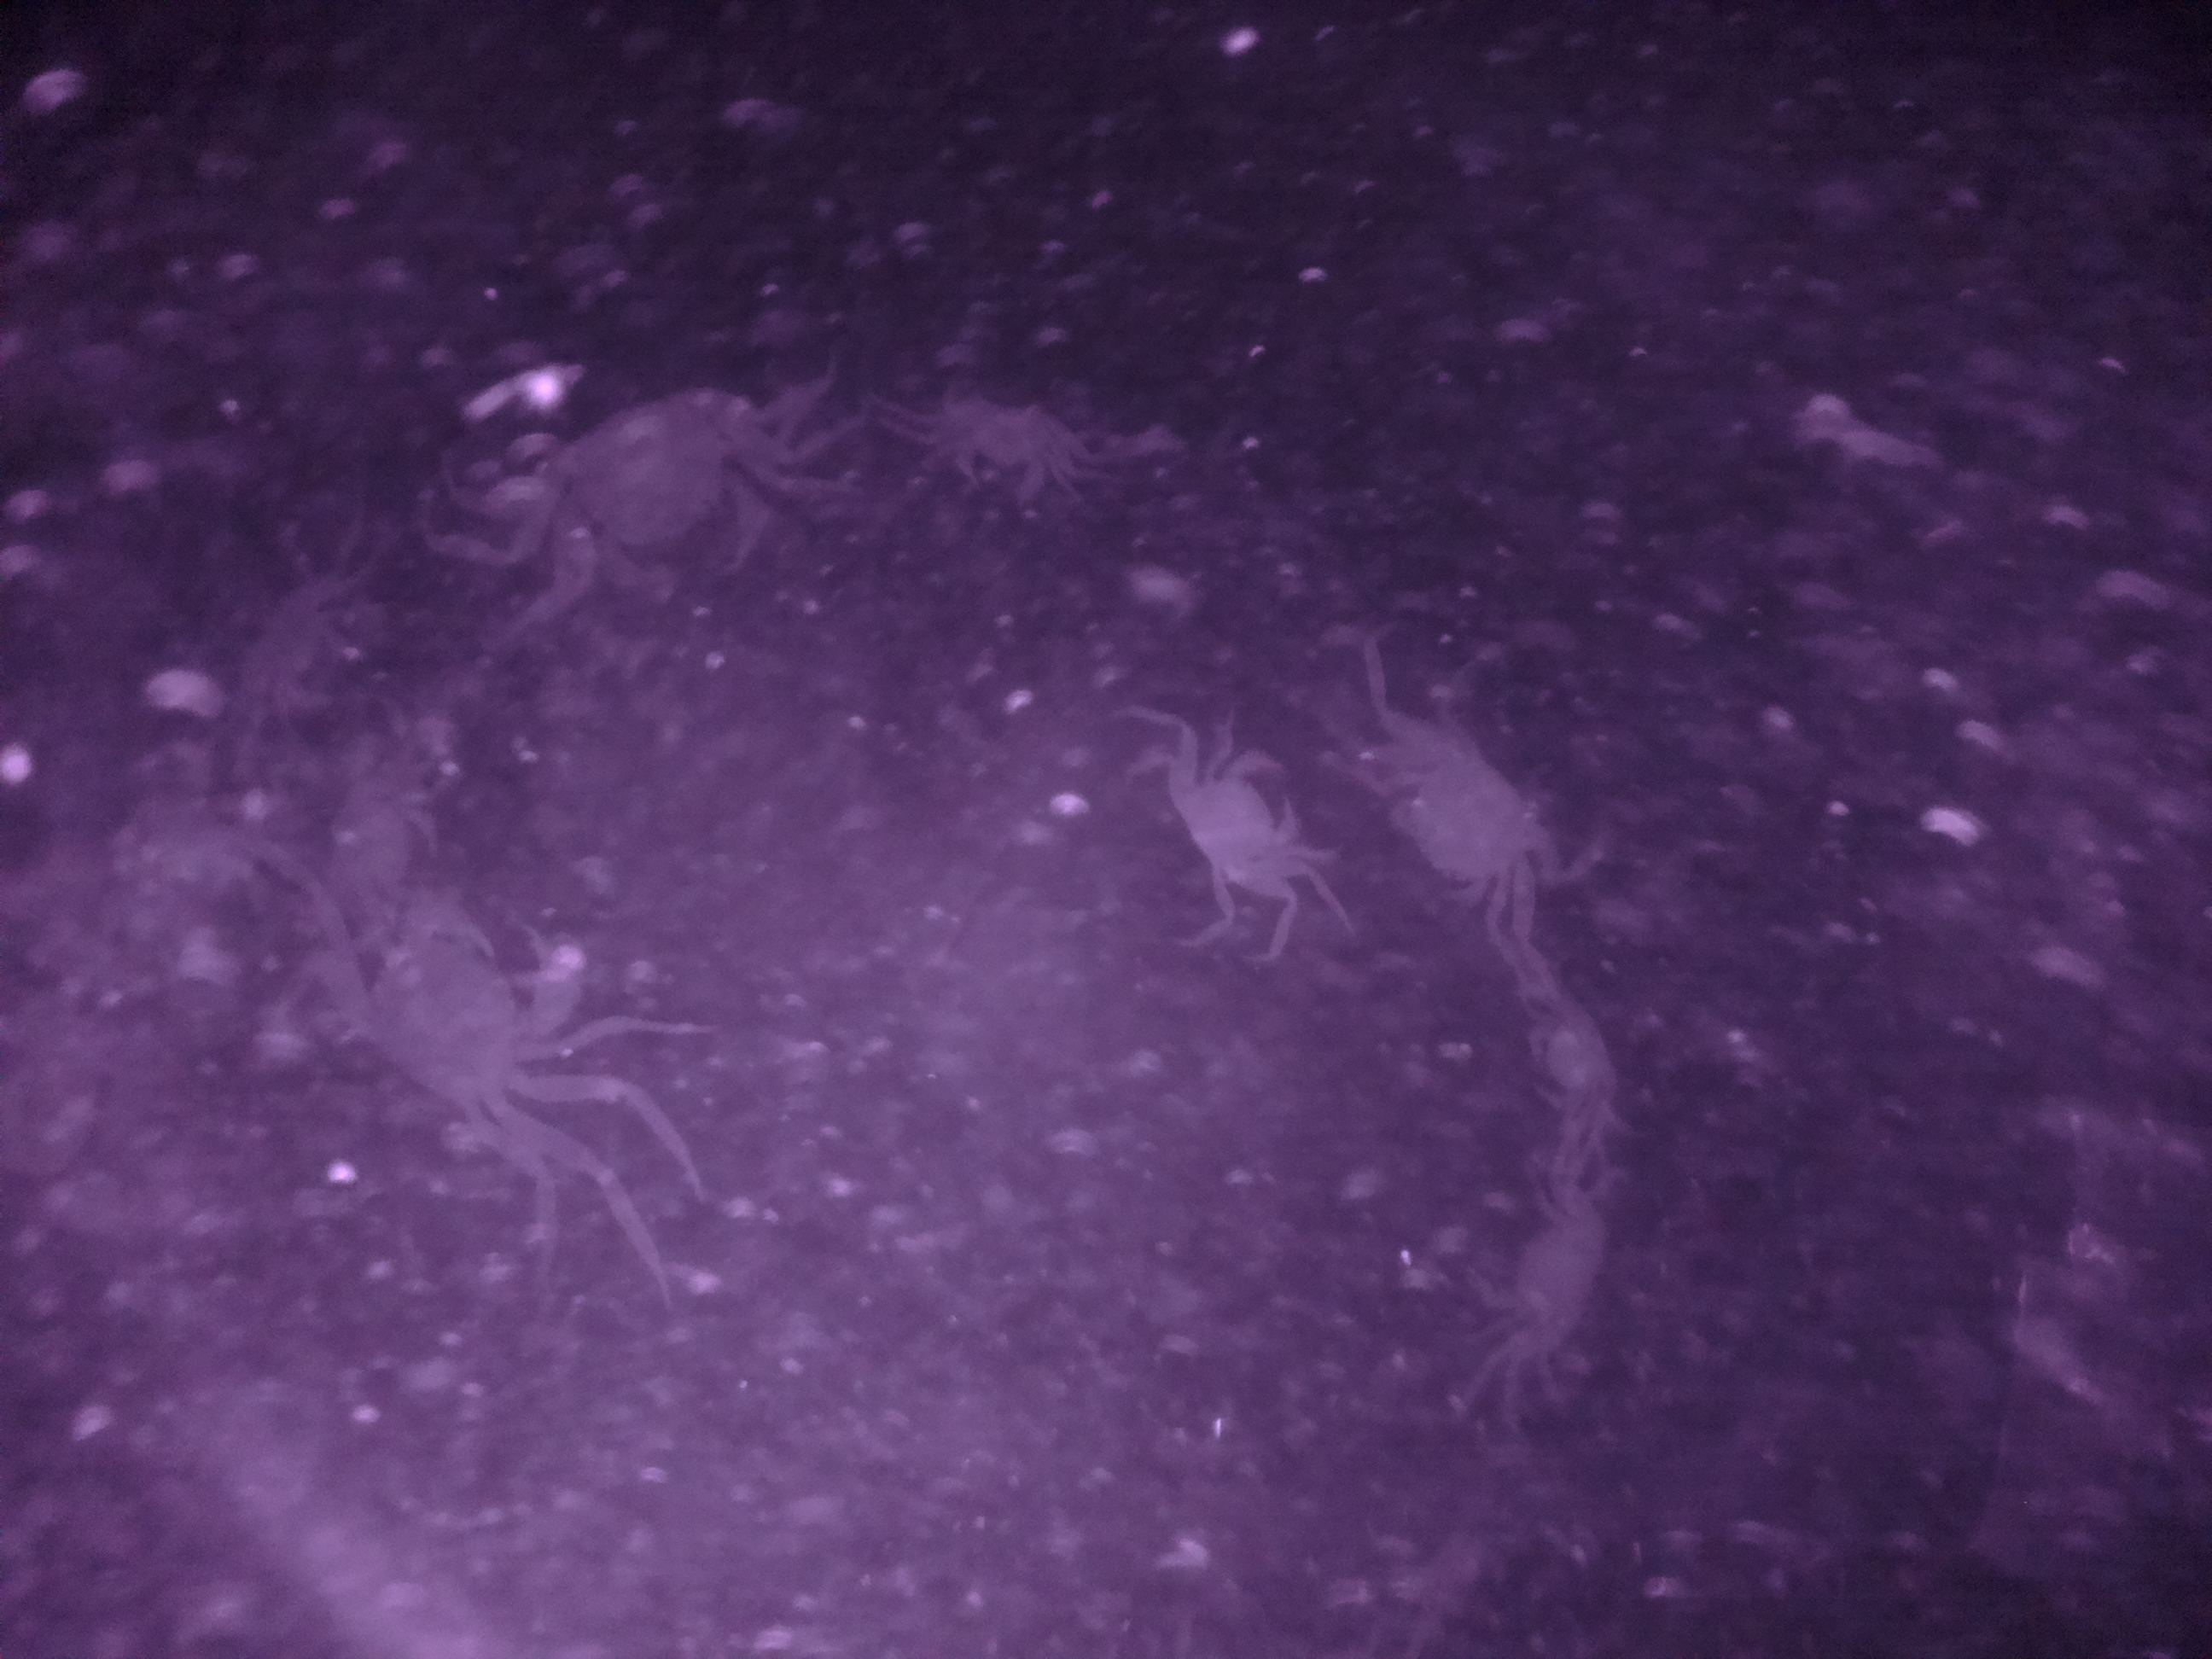Crab: (1357, 716, 1571, 920), (1162, 734, 1308, 904), (935, 385, 1094, 514)
